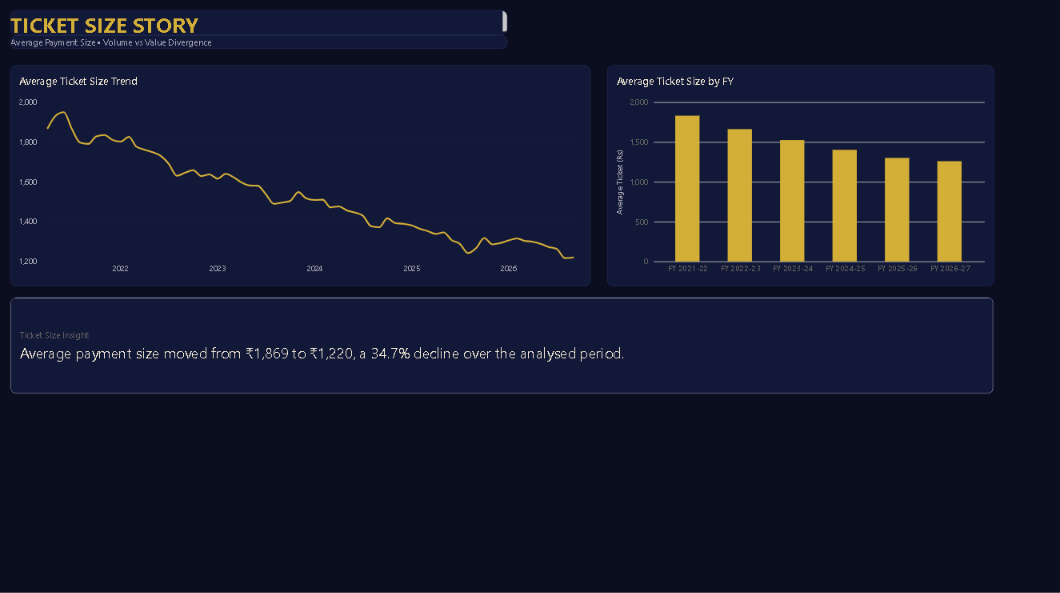

Layout of this report page (visuals, bound fields, positions):
{"tool":"powerbi","page":{"name":"Ticket Size Story","canvas":[1920,1080],"ordinal":2},"visuals":[{"type":"textbox","box":[20,20,900,45],"z":0},{"type":"textbox","box":[20,65,900,25],"z":1000},{"type":"lineChart","title":"Average Ticket Size Trend","fields":{"Category":["DimDate.Date"],"Y":["_Measures.Average Ticket Trend (Rs)"]},"box":[20,120,1050,400],"z":2000},{"type":"clusteredColumnChart","title":"Average Ticket Size by FY","fields":{"Category":["DimDate.Financial Year"],"Y":["_Measures.Average Ticket Trend (Rs)"]},"box":[1100,120,700,400],"z":3000},{"type":"cardVisual","fields":{"Data":["_Measures.Ticket Size Insight"]},"box":[20,540,1780,175],"z":4000}]}

Visuals, with their boxes in screenshot pixels (x1, y1, x2, y2), scaled from the page's 1920x1080 canvas onto the 1060x593 screenshot:
textbox: 11/11/508/36
textbox: 11/36/508/49
"Average Ticket Size Trend" lineChart: 11/66/591/286
"Average Ticket Size by FY" clusteredColumnChart: 607/66/994/286
cardVisual - _Measures.Ticket Size Insight: 11/296/994/393
